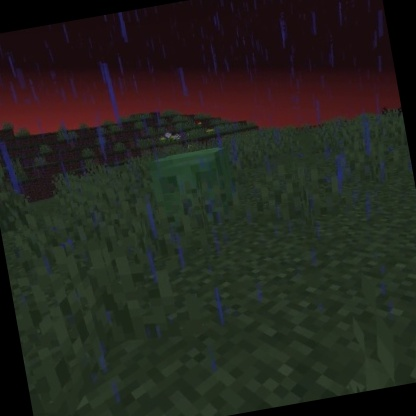slime: (144, 142, 239, 220)
